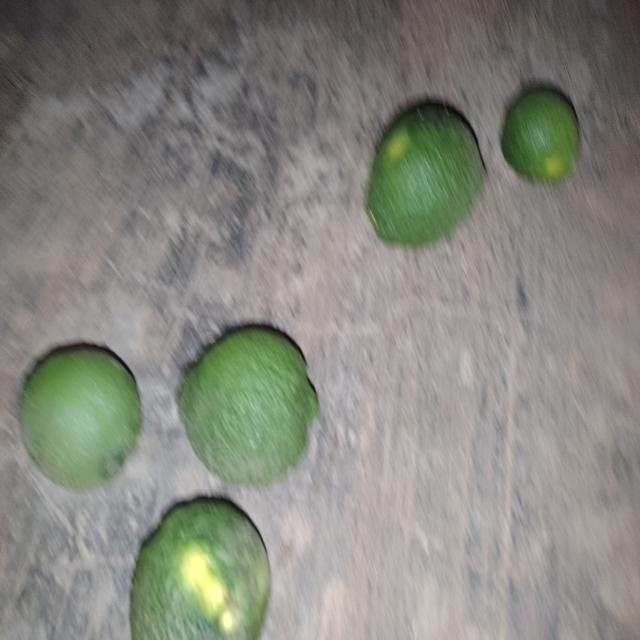agrume: (123, 482, 308, 640), (169, 316, 323, 496), (362, 84, 498, 259), (15, 343, 148, 492)
